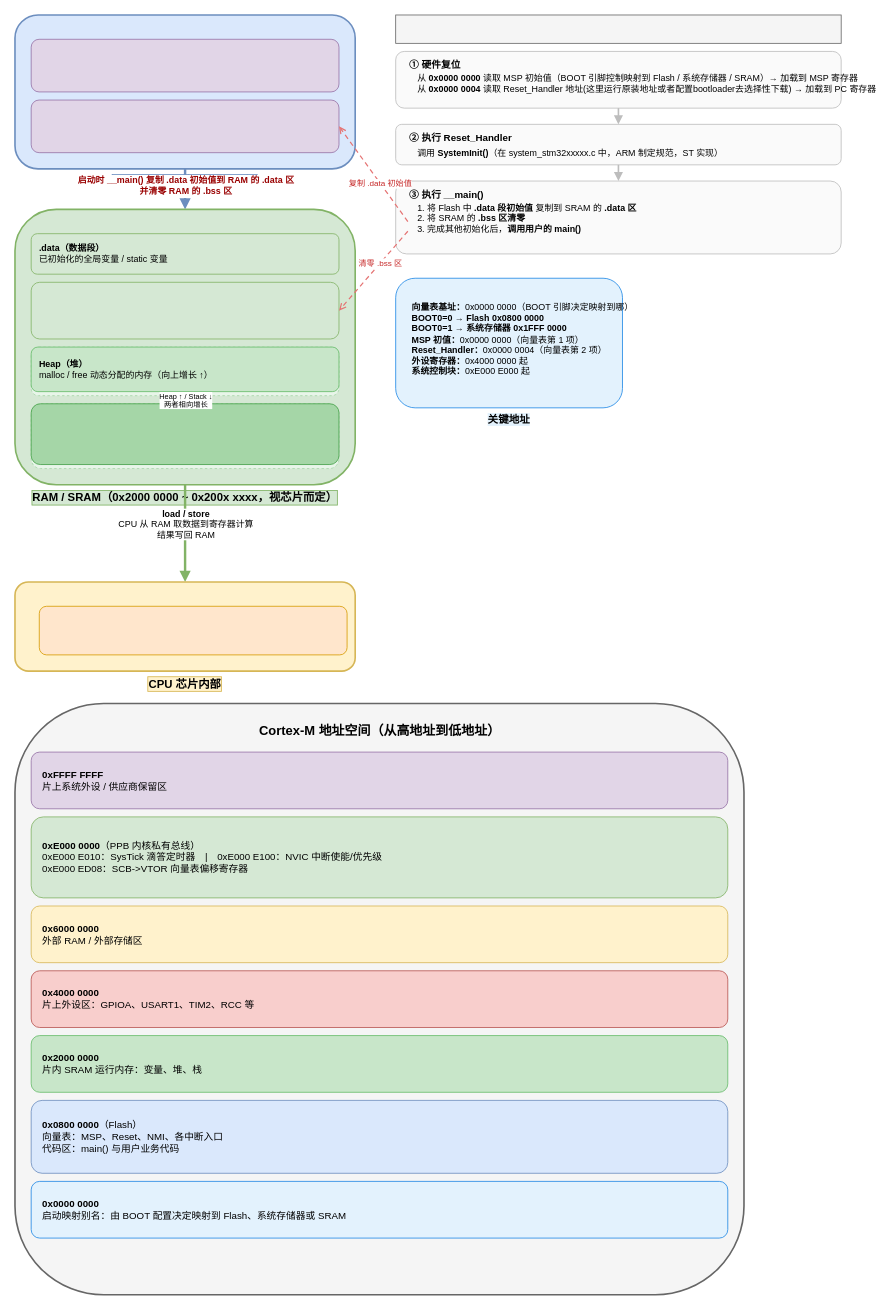
Image size: 890x1309. Some labels were removed from this diagram. The shapes that lost their labels are listed below. From the top down, each one's centre as x and y in pixels, then its label:
At pixel 618 28: "上电启动流程".
At pixel 184 65: ".text（代码段） 机器码，上电后程序在此运行 未初始化全局变量以 指令方式 存在 上电后执行指令开辟 BSS 段".
At pixel 184 126: ".data 初始值 已初始化全局变量 / static 变量的初始数值（ROM 中的常量副本）".
At pixel 184 310: ".bss（BSS 段） 未初始化全局变量（上电自动清零） 变量地址 编译期已确定 ，赋值不改变其地址 FreeRTOS 线程栈和 TCB 存放于此".
At pixel 184 434: "Stack（栈） 函数局部变量 · 返回地址 · 压栈保护现场 （向下增长 ↓）".
At pixel 192 630: "Registers（CPU 寄存器：R0~R15、PC、SP 等） 速度最快、数量极少的「工作台」，真正执行加减乘除运算".
